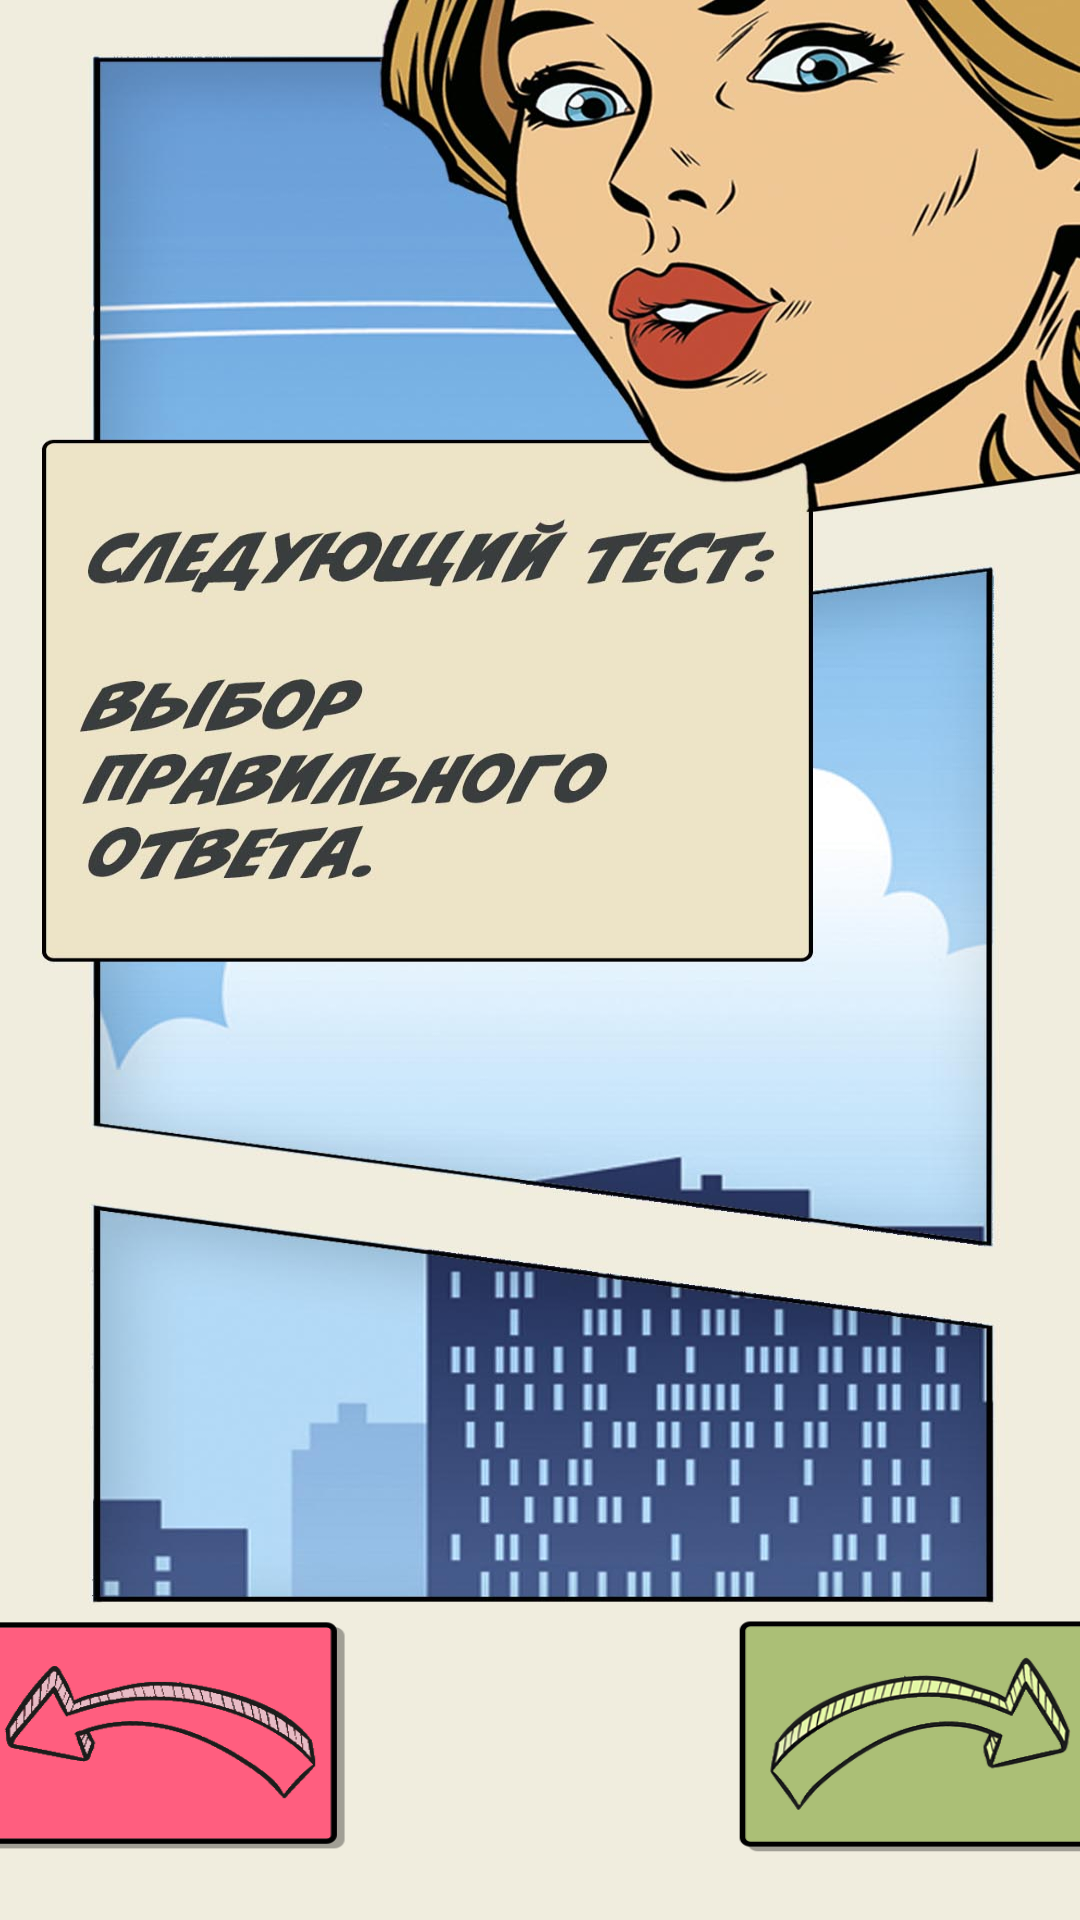

Named icons in this screenshot (1080w x 1920h) and their centers, (x=x, y=y):
back: (x=172, y=1735)
forward: (x=909, y=1736)
